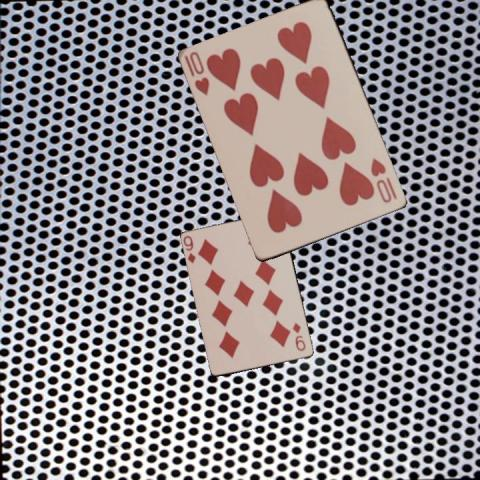10h: (368, 154, 399, 204), (182, 49, 212, 97)
9d: (290, 320, 307, 353), (181, 232, 197, 264)
